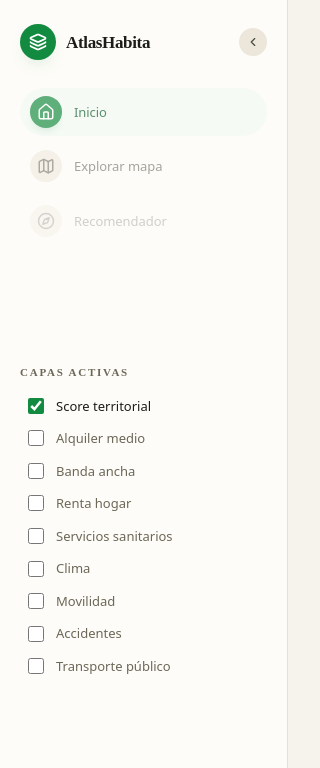
Test: Sidebar (Atelier) › alterna entre expandido y colapsado al pulsar el toggle
Click the button named "Contraer barra lateral" at (253, 42), box x1=239 y1=28 x2=267 y2=56
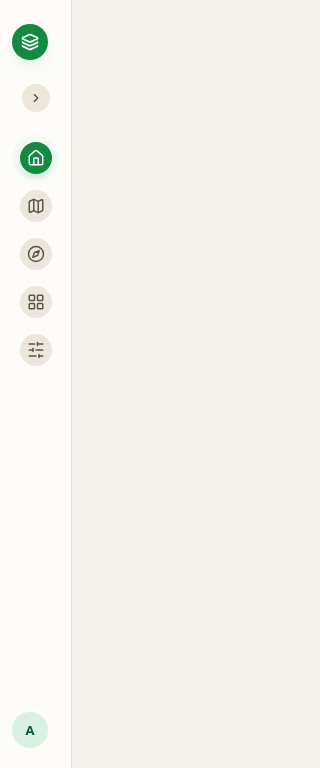
expect the button named "Expandir barra lateral" is shown: met, box x1=22 y1=84 x2=50 y2=112
